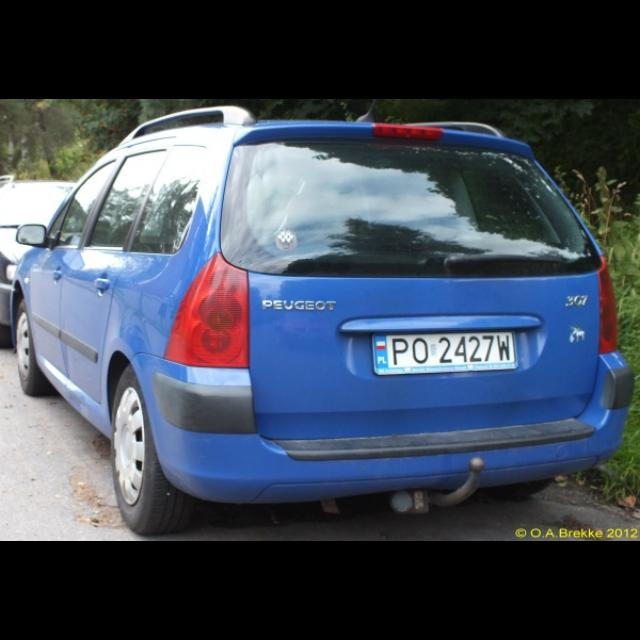pl_license_plate: (370, 332, 516, 368)
